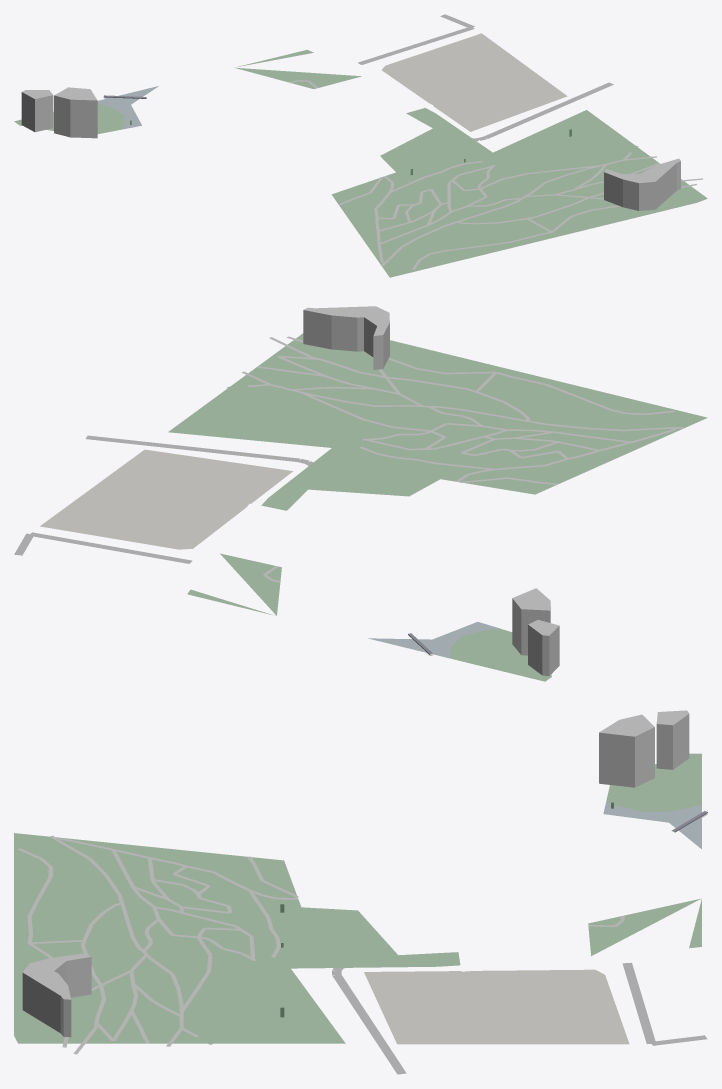
3 renders of one model, top to bottom at view 1: azimuth 30°, elevation 25°; view 2: azimuth 150°, elevation 25°; view 3: azimuth 270°, elevation 25°, orthographic. The views are drawn at different scales.
Bounding box in the file's own units: 553 × 41 × 504.
